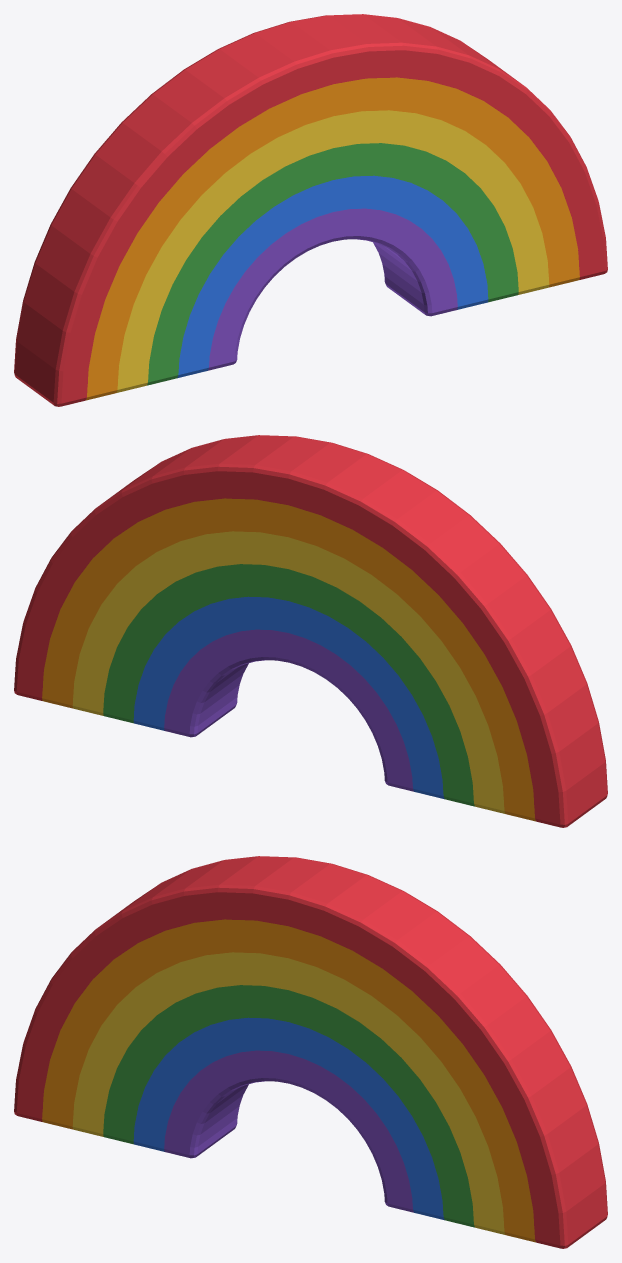
Rendered from asset.glb.
The picture shows the model from 3 angles, top to bottom: view 1: azimuth 30°, elevation 25°; view 2: azimuth 150°, elevation 25°; view 3: azimuth 330°, elevation 25°; orthographic projection.
Parts seen in each view (by area): view 1: Rainbow arch; view 2: Rainbow arch; view 3: Rainbow arch.
Part boxes in pixels (box(x1,y1,x2,y2)): Rainbow arch: box(14, 14, 607, 406); Rainbow arch: box(14, 435, 607, 827); Rainbow arch: box(14, 856, 607, 1248).
Size of the model in its own units: 2 by 1 by 0.28.
Materials: 1 (1 with a texture image).
